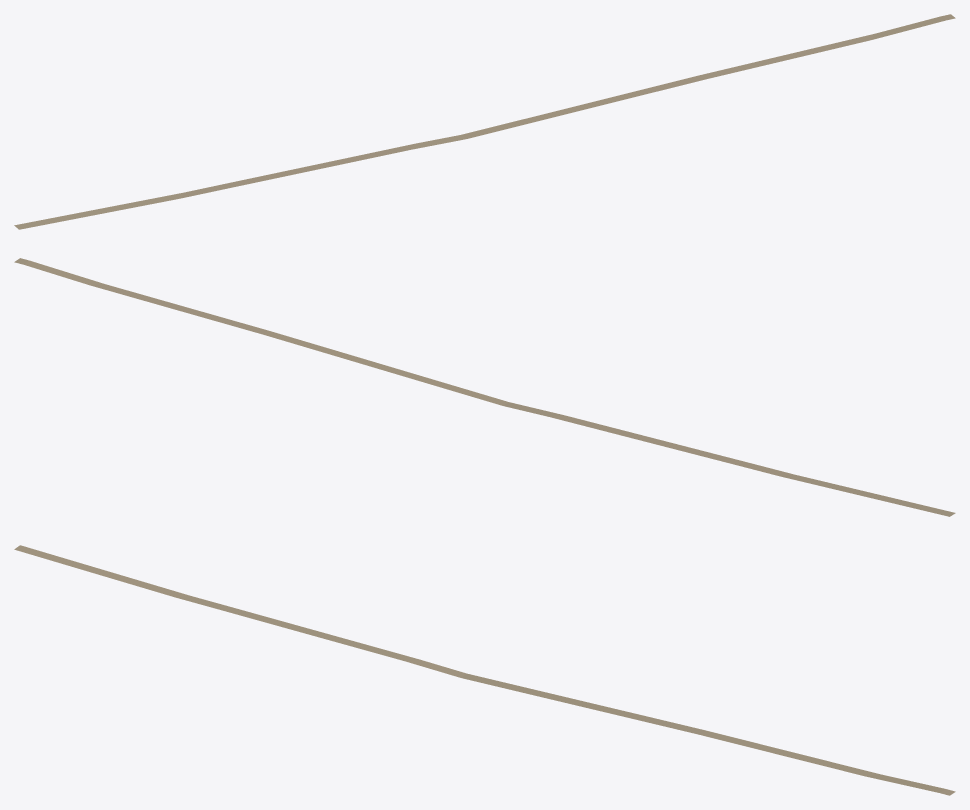
The model's file is farm_15_17_track.glb.
3 renders of one model, top to bottom at view 1: azimuth 30°, elevation 25°; view 2: azimuth 150°, elevation 25°; view 3: azimuth 330°, elevation 25°, orthographic. The views are drawn at different scales.
Visible parts, largest first — view 1: geometry_0; view 2: geometry_0; view 3: geometry_0.
Part boxes in pixels (x1,y1,x2,y2): geometry_0: [14, 14, 955, 229]; geometry_0: [14, 258, 955, 516]; geometry_0: [14, 545, 955, 795].
Bounding box in the file's own units: 313 × 4.09 × 16.17.
